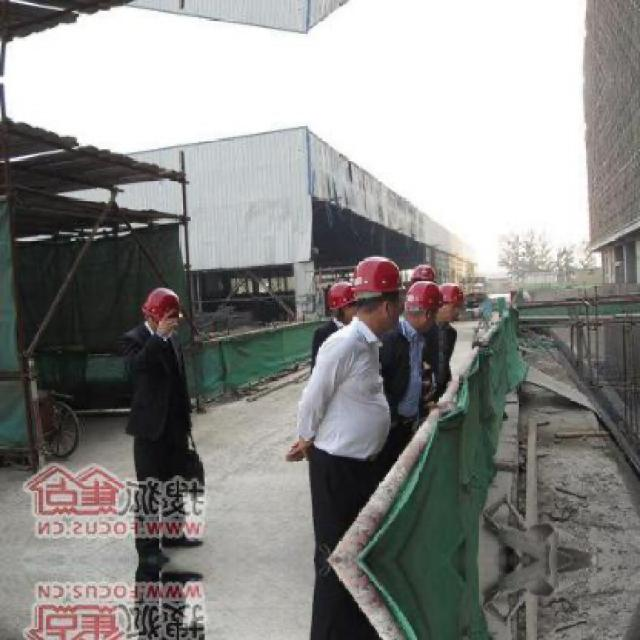helmet: (352, 254, 405, 332), (142, 286, 188, 339), (406, 280, 440, 328), (438, 283, 468, 329), (326, 279, 356, 323)
